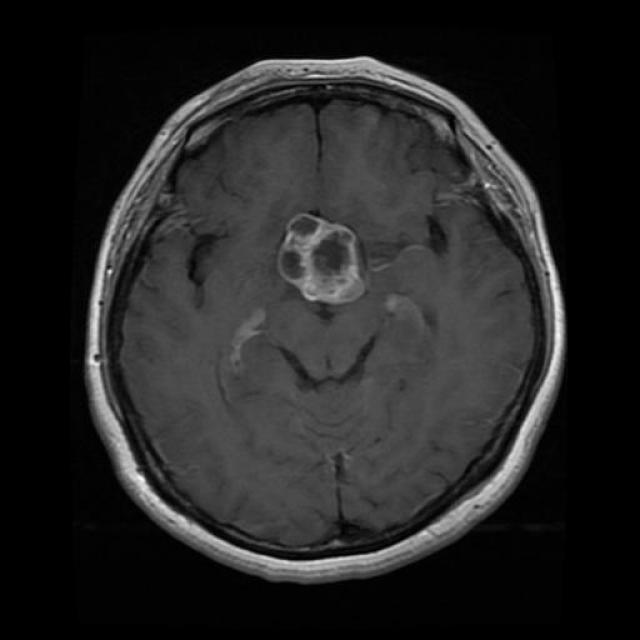Brain-Tumor: (272, 194, 380, 315)
